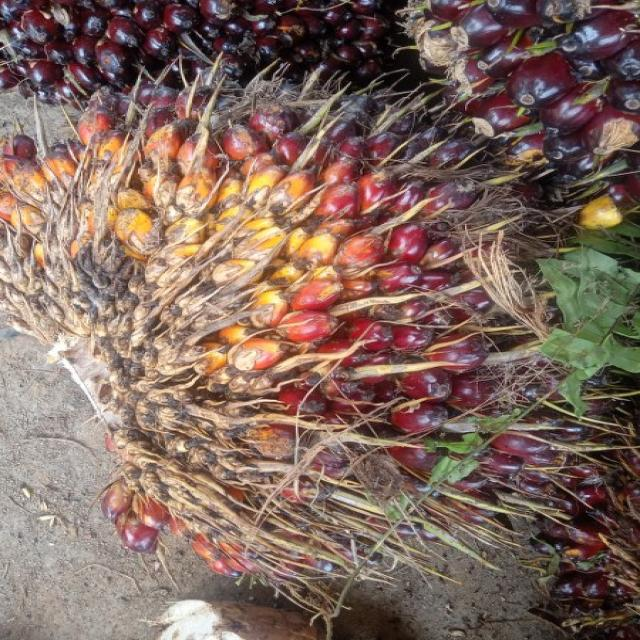fraksi 3: (5, 77, 559, 558)
